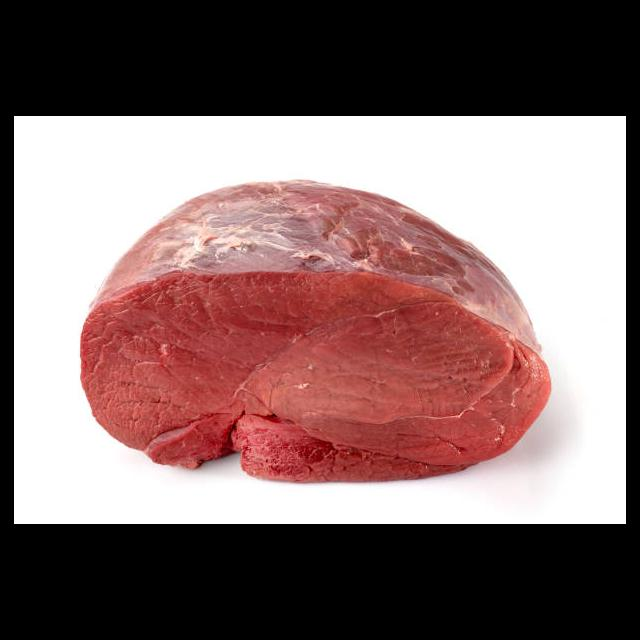beef: (80, 180, 552, 484)
